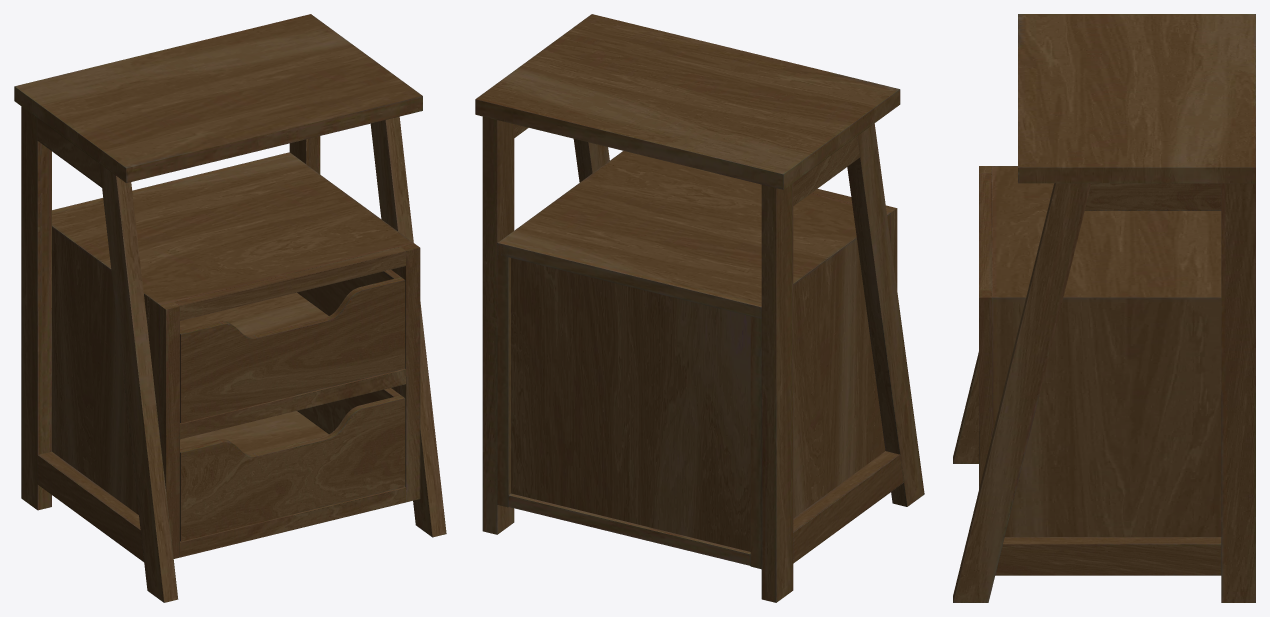
The model's file is nightstandWcomp.glb.
3 views of the same model, side by side, from view 1: azimuth 30°, elevation 25°; view 2: azimuth 150°, elevation 25°; view 3: azimuth 270°, elevation 25° (orthographic). The views are drawn at different scales.
Parts seen in each view (by area): view 1: Top_Baked, SubTop_Baked, TDF_Baked, BDF_Baked, Cab Left Side_Baked, LFF_Baked, LFR_Baked, RFF_Baked, Face Frame Top_Baked, LFB_Baked, Face frame left_Baked, Face Frame Right_Baked (+8 smaller); view 2: Back board_Baked, Top_Baked, SubTop_Baked, Cab Left Side_Baked, LFR_Baked, LFF_Baked, RFR_Baked, LFB_Baked, Cab Right Side_Baked, Cab Bottom_Baked, LFT_Baked, RFF_Baked; view 3: Cab Right Side_Baked, Top_Baked, SubTop_Baked, RFF_Baked, RFR_Baked, RFB_Baked, RFT_Baked, Face Frame Right_Baked, LFF_Baked, Face Frame Top_Baked.
Boxes of the visible parts, x1,y1,x2,y2 form: Top_Baked: [14, 14, 422, 182]; SubTop_Baked: [52, 152, 413, 305]; TDF_Baked: [180, 277, 405, 423]; BDF_Baked: [180, 395, 405, 541]; Cab Left Side_Baked: [52, 227, 159, 514]; LFF_Baked: [99, 163, 178, 602]; LFR_Baked: [21, 106, 51, 510]; RFF_Baked: [370, 116, 446, 537]; Face Frame Top_Baked: [174, 246, 405, 320]; LFB_Baked: [37, 451, 144, 562]; Face frame left_Baked: [160, 302, 179, 558]; Face Frame Right_Baked: [400, 243, 420, 502]; Back board_Baked: [511, 258, 750, 551]; Top_Baked: [475, 14, 900, 189]; SubTop_Baked: [497, 151, 890, 318]; Cab Left Side_Baked: [750, 213, 890, 569]; LFR_Baked: [761, 183, 793, 602]; LFF_Baked: [847, 123, 924, 506]; RFR_Baked: [482, 116, 514, 534]; LFB_Baked: [793, 451, 903, 563]; Cab Right Side_Baked: [497, 243, 510, 507]; Cab Bottom_Baked: [508, 493, 750, 565]; LFT_Baked: [793, 136, 859, 205]; RFF_Baked: [573, 139, 609, 182]; Cab Right Side_Baked: [992, 298, 1221, 536]; Top_Baked: [1018, 14, 1255, 183]; SubTop_Baked: [992, 166, 1221, 298]; RFF_Baked: [953, 183, 1091, 602]; RFR_Baked: [1221, 183, 1255, 602]; RFB_Baked: [995, 537, 1221, 575]; RFT_Baked: [1084, 183, 1221, 210]; Face Frame Right_Baked: [979, 290, 991, 488]; LFF_Baked: [953, 352, 978, 463]; Face Frame Top_Baked: [979, 173, 991, 290].
Bounding box in the file's own units: 0.5334 × 0.7112 × 0.4445.
Materials: 30 (30 with a texture image).
